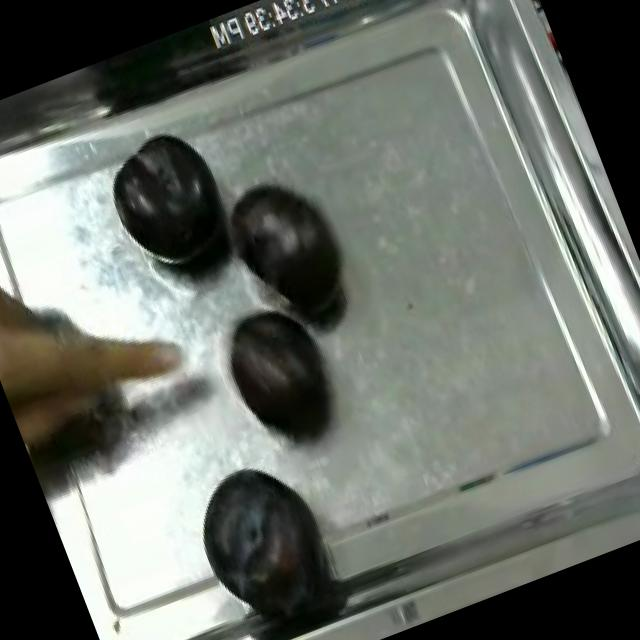Fruit: (172, 442, 348, 630), (211, 158, 366, 339), (92, 115, 250, 292), (204, 288, 354, 456)
